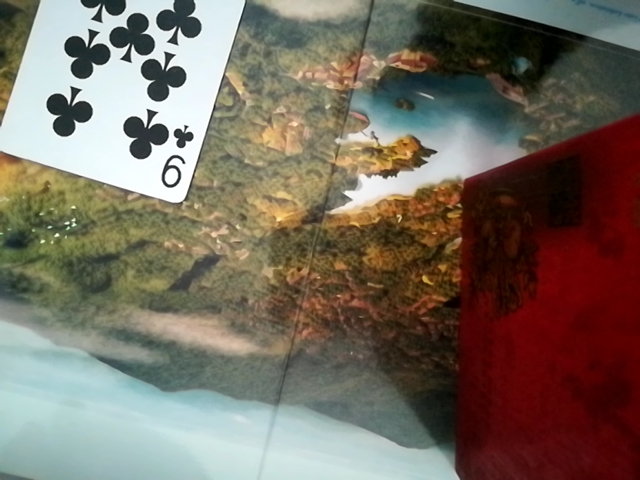mh 9: (0, 0, 256, 216)
